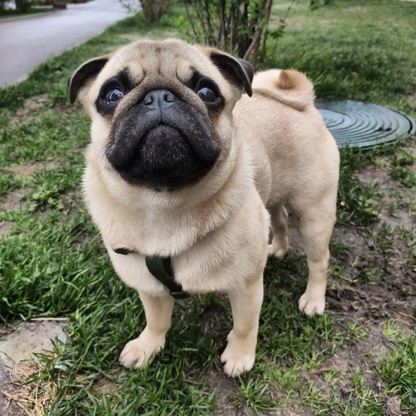Pug: (64, 33, 346, 382)
